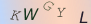G: (42, 1, 55, 12)
K: (9, 9, 22, 22)
L: (78, 10, 90, 24)
W: (23, 7, 40, 21)
Y: (55, 6, 66, 17)
